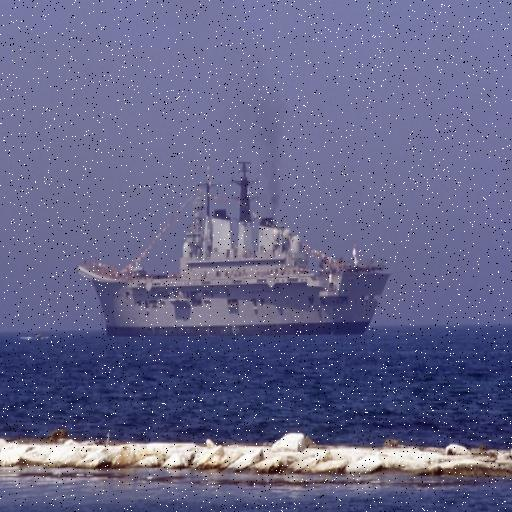Portanaves: (76, 153, 395, 343)
